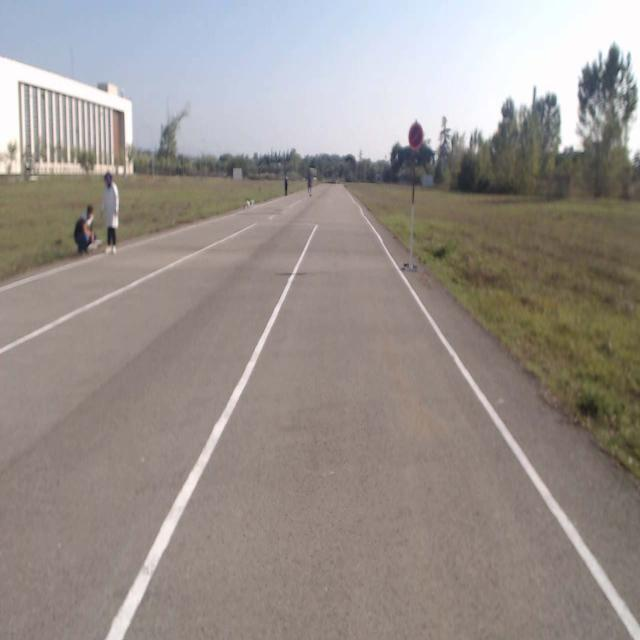parkyasak: (408, 123, 422, 150)
